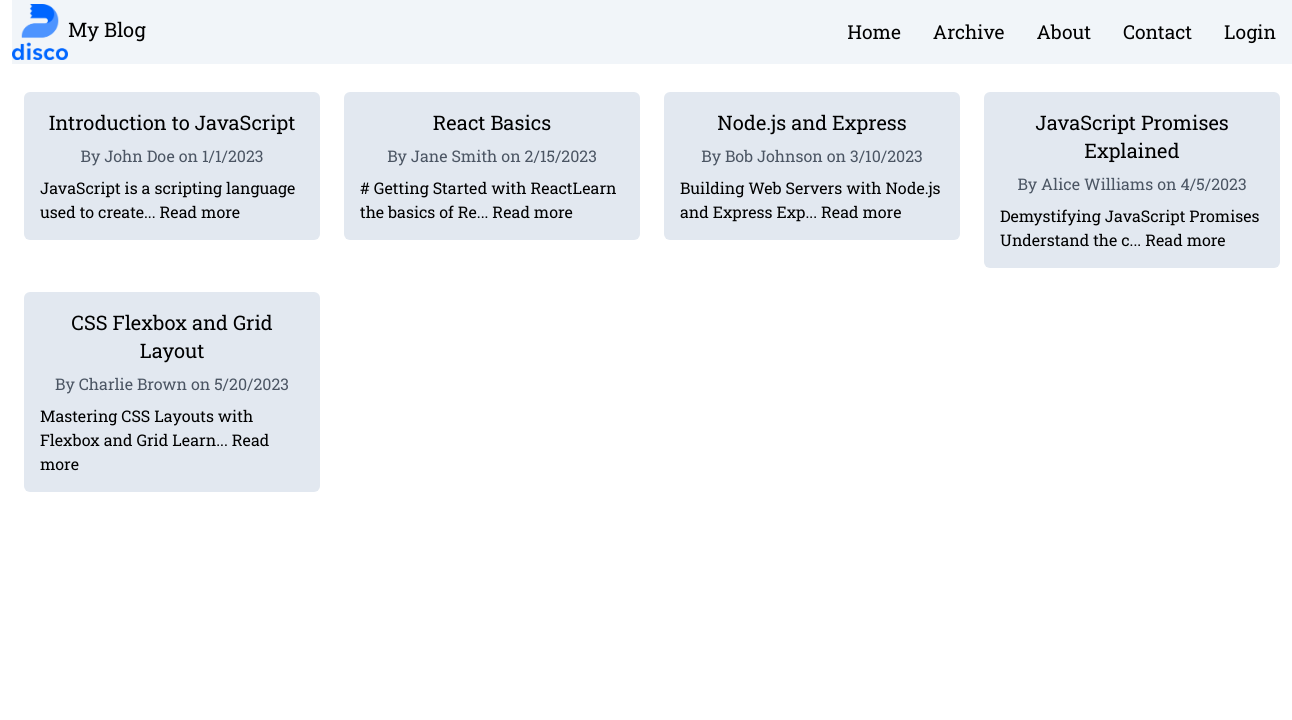
Test case: BlogDetails Component › loads and displays the last blog details
Click the link with id "blogNumber-5": x=172, y=392 [24,292,320,492]
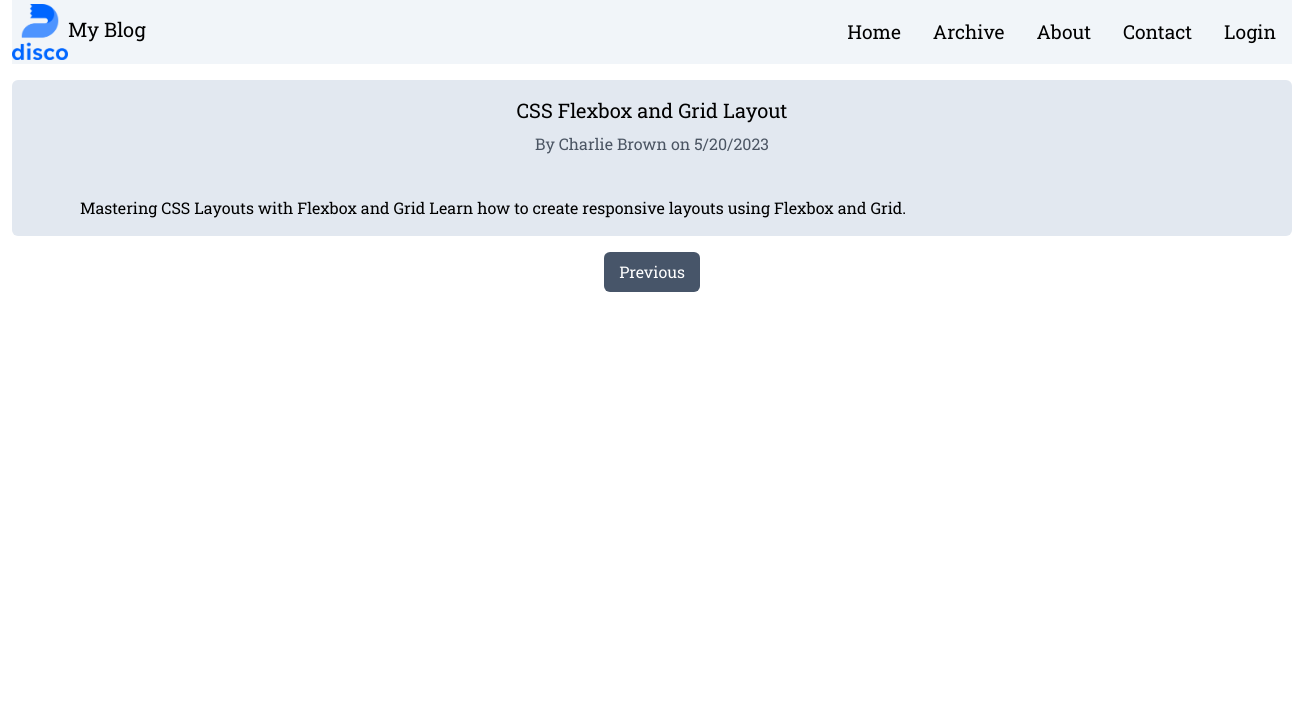
Expected: the heading "CSS Flexbox and Grid Layout" is shown, [516,97,788,123]
Now the button "Previous" is shown, box [604,252,700,292]
Now the element showing "By Charlie Brown on 5/20/2023" is shown, box [535,133,769,154]
